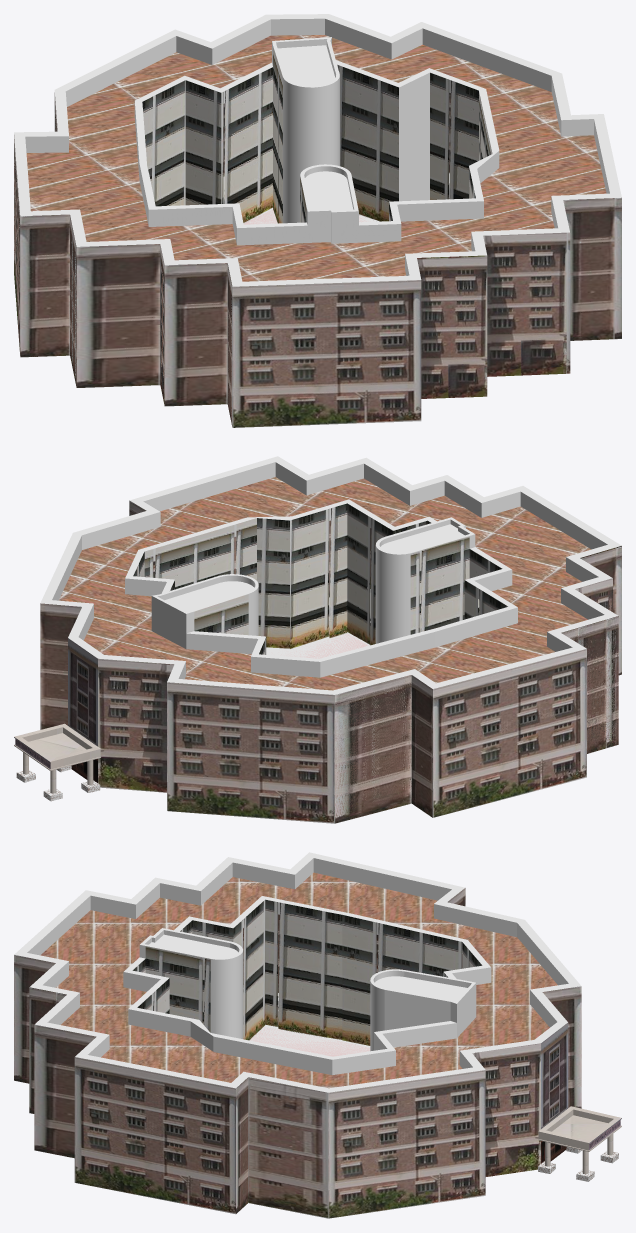
The model's file is viswesvarayyabhavan.fbx.
The picture shows the model from 3 angles, top to bottom: view 1: azimuth 30°, elevation 25°; view 2: azimuth 150°, elevation 25°; view 3: azimuth 270°, elevation 25°; orthographic projection. The views are drawn at different scales.
Visible parts, largest first — view 1: SketchUp.031, SketchUp.021, SketchUp, SketchUp.027, SketchUp.018, SketchUp.003, SketchUp.001, SketchUp.024, SketchUp.020, SketchUp.023, SketchUp.030, SketchUp.004 (+7 smaller); view 2: SketchUp.031, SketchUp.012, SketchUp.029, SketchUp.015, SketchUp, SketchUp.024, SketchUp.013, SketchUp.001, SketchUp.010, SketchUp.027, SketchUp.017, SketchUp.009 (+10 smaller); view 3: SketchUp.031, SketchUp.027, SketchUp.005, SketchUp.008, SketchUp, SketchUp.007, SketchUp.024, SketchUp.001, SketchUp.035, SketchUp.004, SketchUp.029, SketchUp.039 (+10 smaller).
Boxes of the visible parts, x1=… form: SketchUp.031: x1=26, y1=35, x2=606, y2=281; SketchUp.021: x1=232, y1=280, x2=421, y2=427; SketchUp: x1=134, y1=37, x2=499, y2=245; SketchUp.027: x1=142, y1=46, x2=306, y2=223; SketchUp.018: x1=76, y1=244, x2=160, y2=387; SketchUp.003: x1=483, y1=232, x2=570, y2=376; SketchUp.001: x1=14, y1=14, x2=621, y2=286; SketchUp.024: x1=25, y1=18, x2=609, y2=275; SketchUp.020: x1=164, y1=263, x2=232, y2=426; SketchUp.023: x1=417, y1=255, x2=487, y2=398; SketchUp.030: x1=338, y1=65, x2=398, y2=221; SketchUp.004: x1=563, y1=197, x2=621, y2=340; SketchUp.031: x1=59, y1=477, x2=591, y2=690; SketchUp.012: x1=167, y1=682, x2=334, y2=823; SketchUp.029: x1=133, y1=503, x2=430, y2=648; SketchUp.015: x1=433, y1=649, x2=586, y2=817; SketchUp: x1=125, y1=499, x2=517, y2=677; SketchUp.024: x1=52, y1=462, x2=607, y2=679; SketchUp.013: x1=335, y1=675, x2=411, y2=823; SketchUp.001: x1=40, y1=456, x2=621, y2=694; SketchUp.010: x1=98, y1=658, x2=174, y2=792; SketchUp.027: x1=194, y1=536, x2=507, y2=654; SketchUp.017: x1=561, y1=616, x2=618, y2=753; SketchUp.009: x1=40, y1=603, x2=81, y2=729; SketchUp.031: x1=40, y1=872, x2=557, y2=1088; SketchUp.027: x1=180, y1=899, x2=482, y2=1045; SketchUp.005: x1=74, y1=1057, x2=235, y2=1214; SketchUp.008: x1=328, y1=1070, x2=485, y2=1218; SketchUp: x1=123, y1=896, x2=491, y2=1075; SketchUp.007: x1=248, y1=1077, x2=328, y2=1218; SketchUp.024: x1=27, y1=858, x2=568, y2=1068; SketchUp.001: x1=14, y1=852, x2=581, y2=1092; SketchUp.035: x1=472, y1=1043, x2=540, y2=1176; SketchUp.004: x1=34, y1=1024, x2=96, y2=1158; SketchUp.029: x1=132, y1=946, x2=210, y2=1032; SketchUp.039: x1=541, y1=1022, x2=568, y2=1128.
Bounding box in the file's own units: 5872 × 1661 × 6274.
20 materials, 18 textured.
